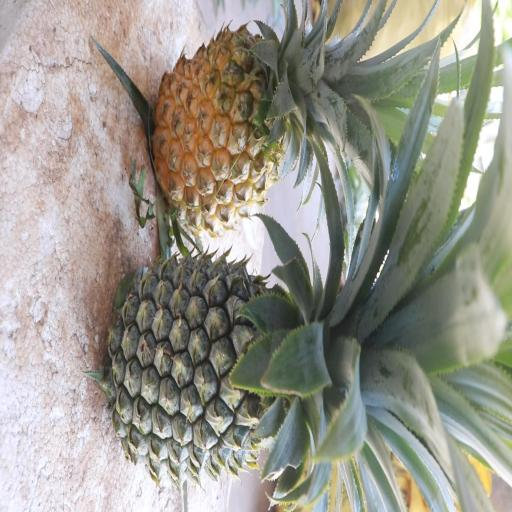Pineapple - v8 v1: (146, 14, 400, 226)
